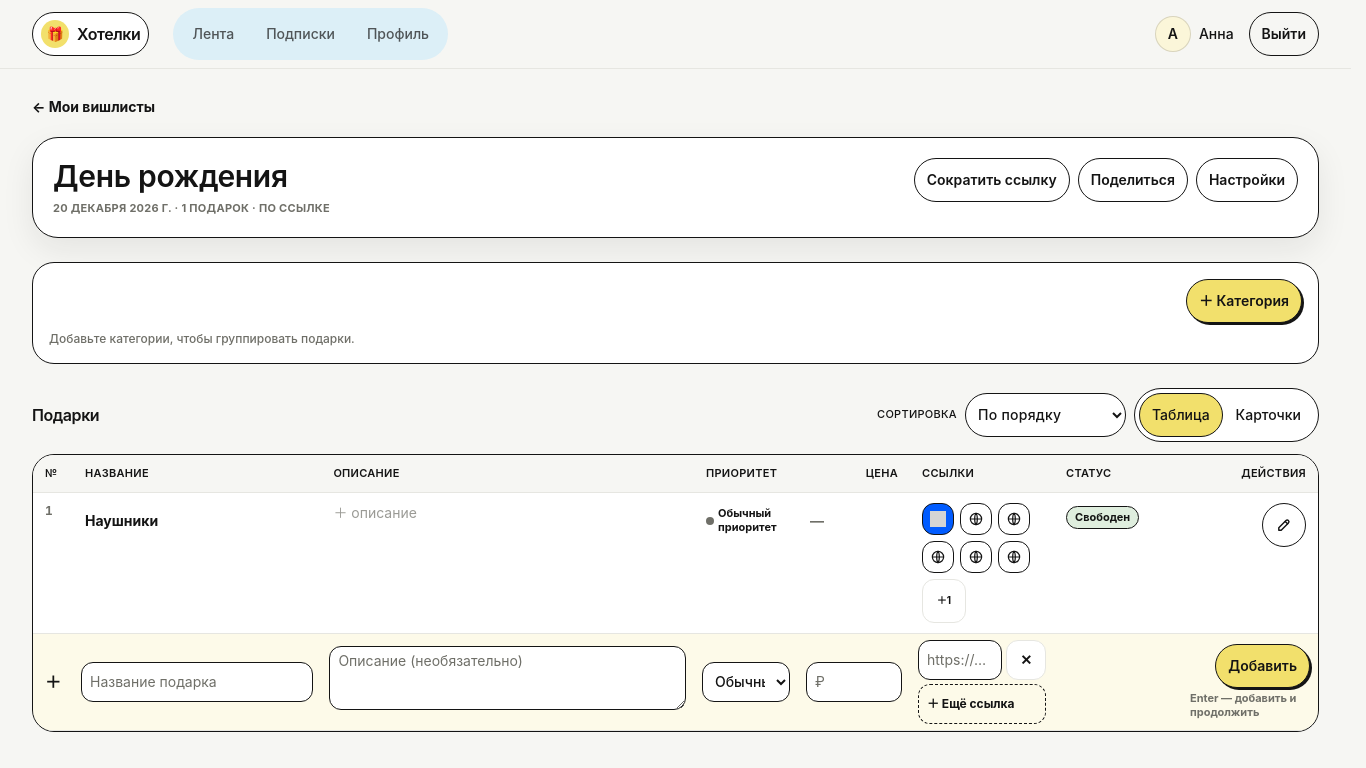
Test case: квадратные кнопки ссылок › 7+ ссылок: первые 6 + «＋N», раскрытие и сворачивание
Expected: the text "Наушники" is shown, [85,511,158,531]
Expected: the number of links named "Открыть ссылку: " is 6, [922,503,954,535]; [960,503,992,535]; [998,503,1030,535]; [922,541,954,573]; [960,541,992,573]; [998,541,1030,573]
Click the button named "Показать ещё 1 ссылку": x=944, y=601 [922,579,966,623]
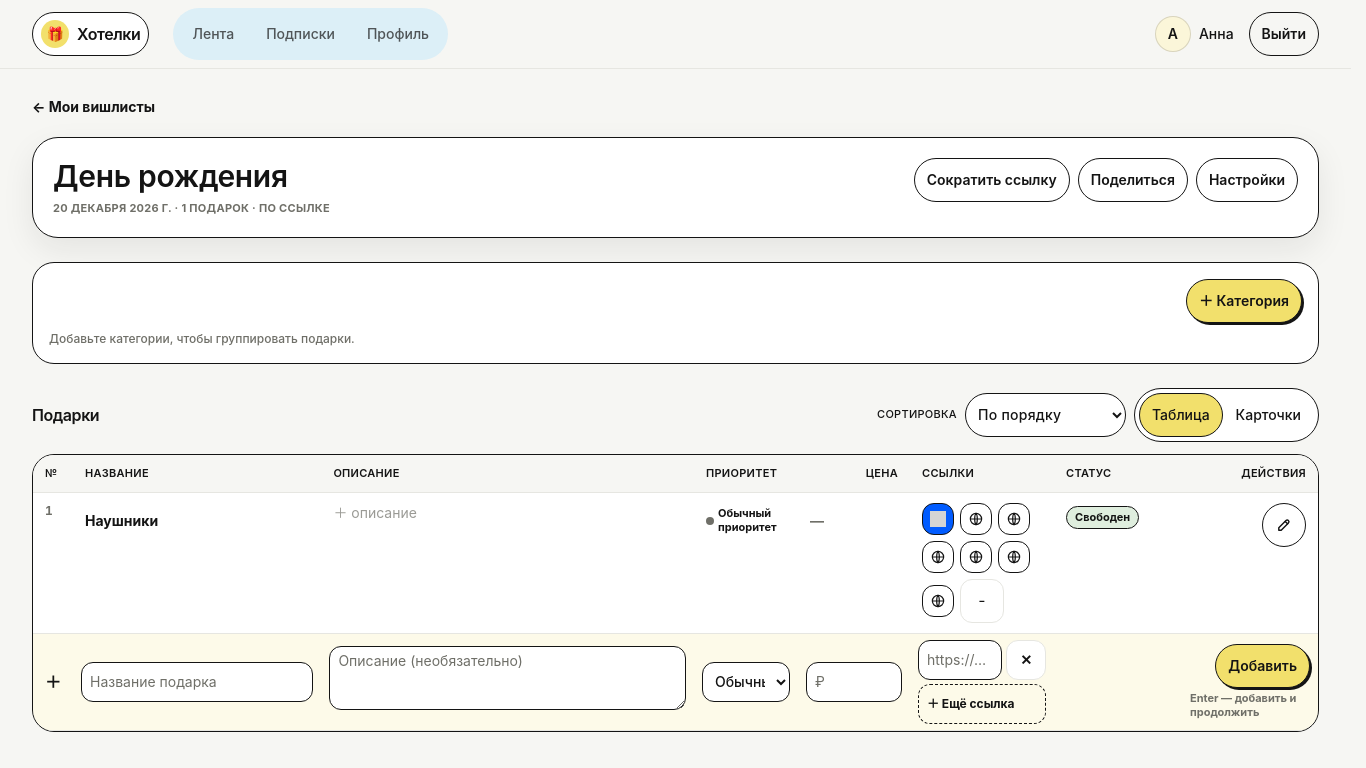
Now the number of links named "Открыть ссылку: " is 7
Click the button named "Свернуть ссылки": x=982, y=601 [960,579,1004,623]
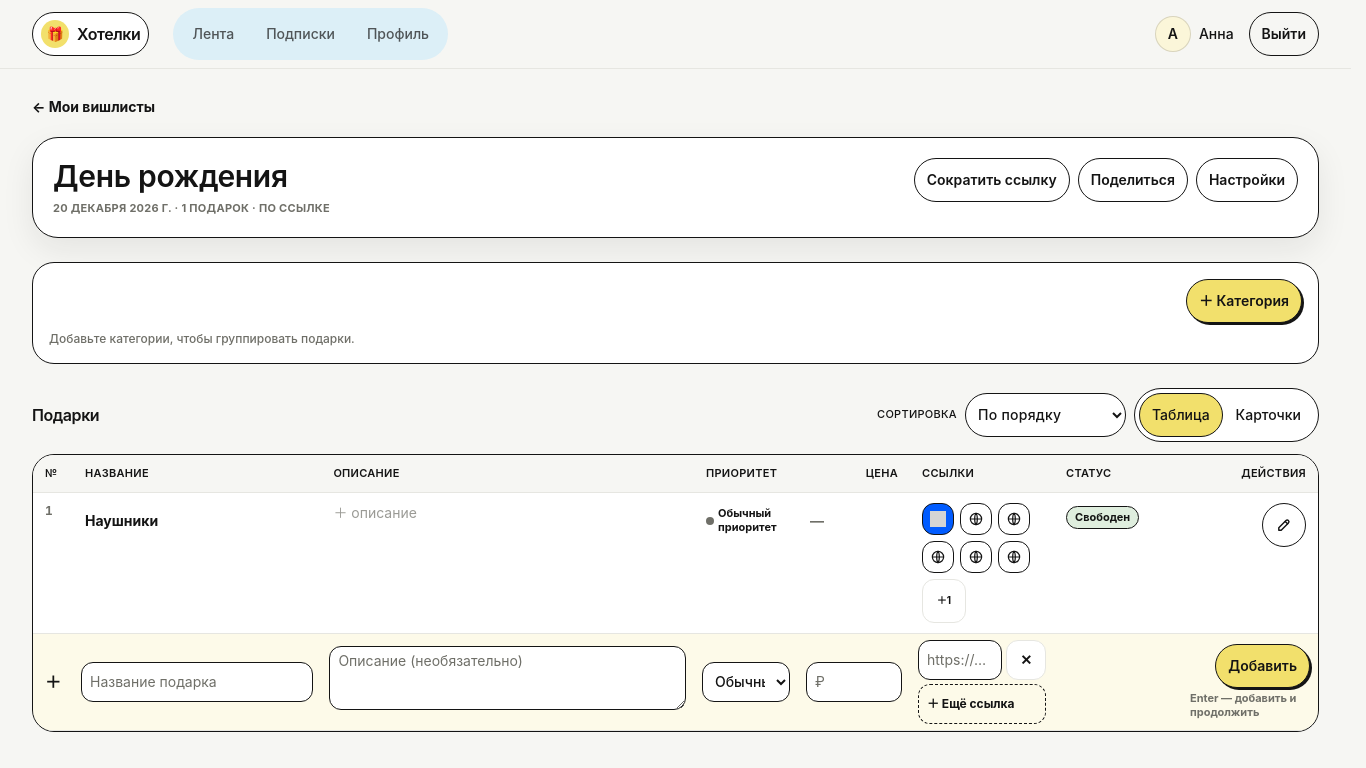
Now the number of links named "Открыть ссылку: " is 6, box [922,503,954,535]; [960,503,992,535]; [998,503,1030,535]; [922,541,954,573]; [960,541,992,573]; [998,541,1030,573]
